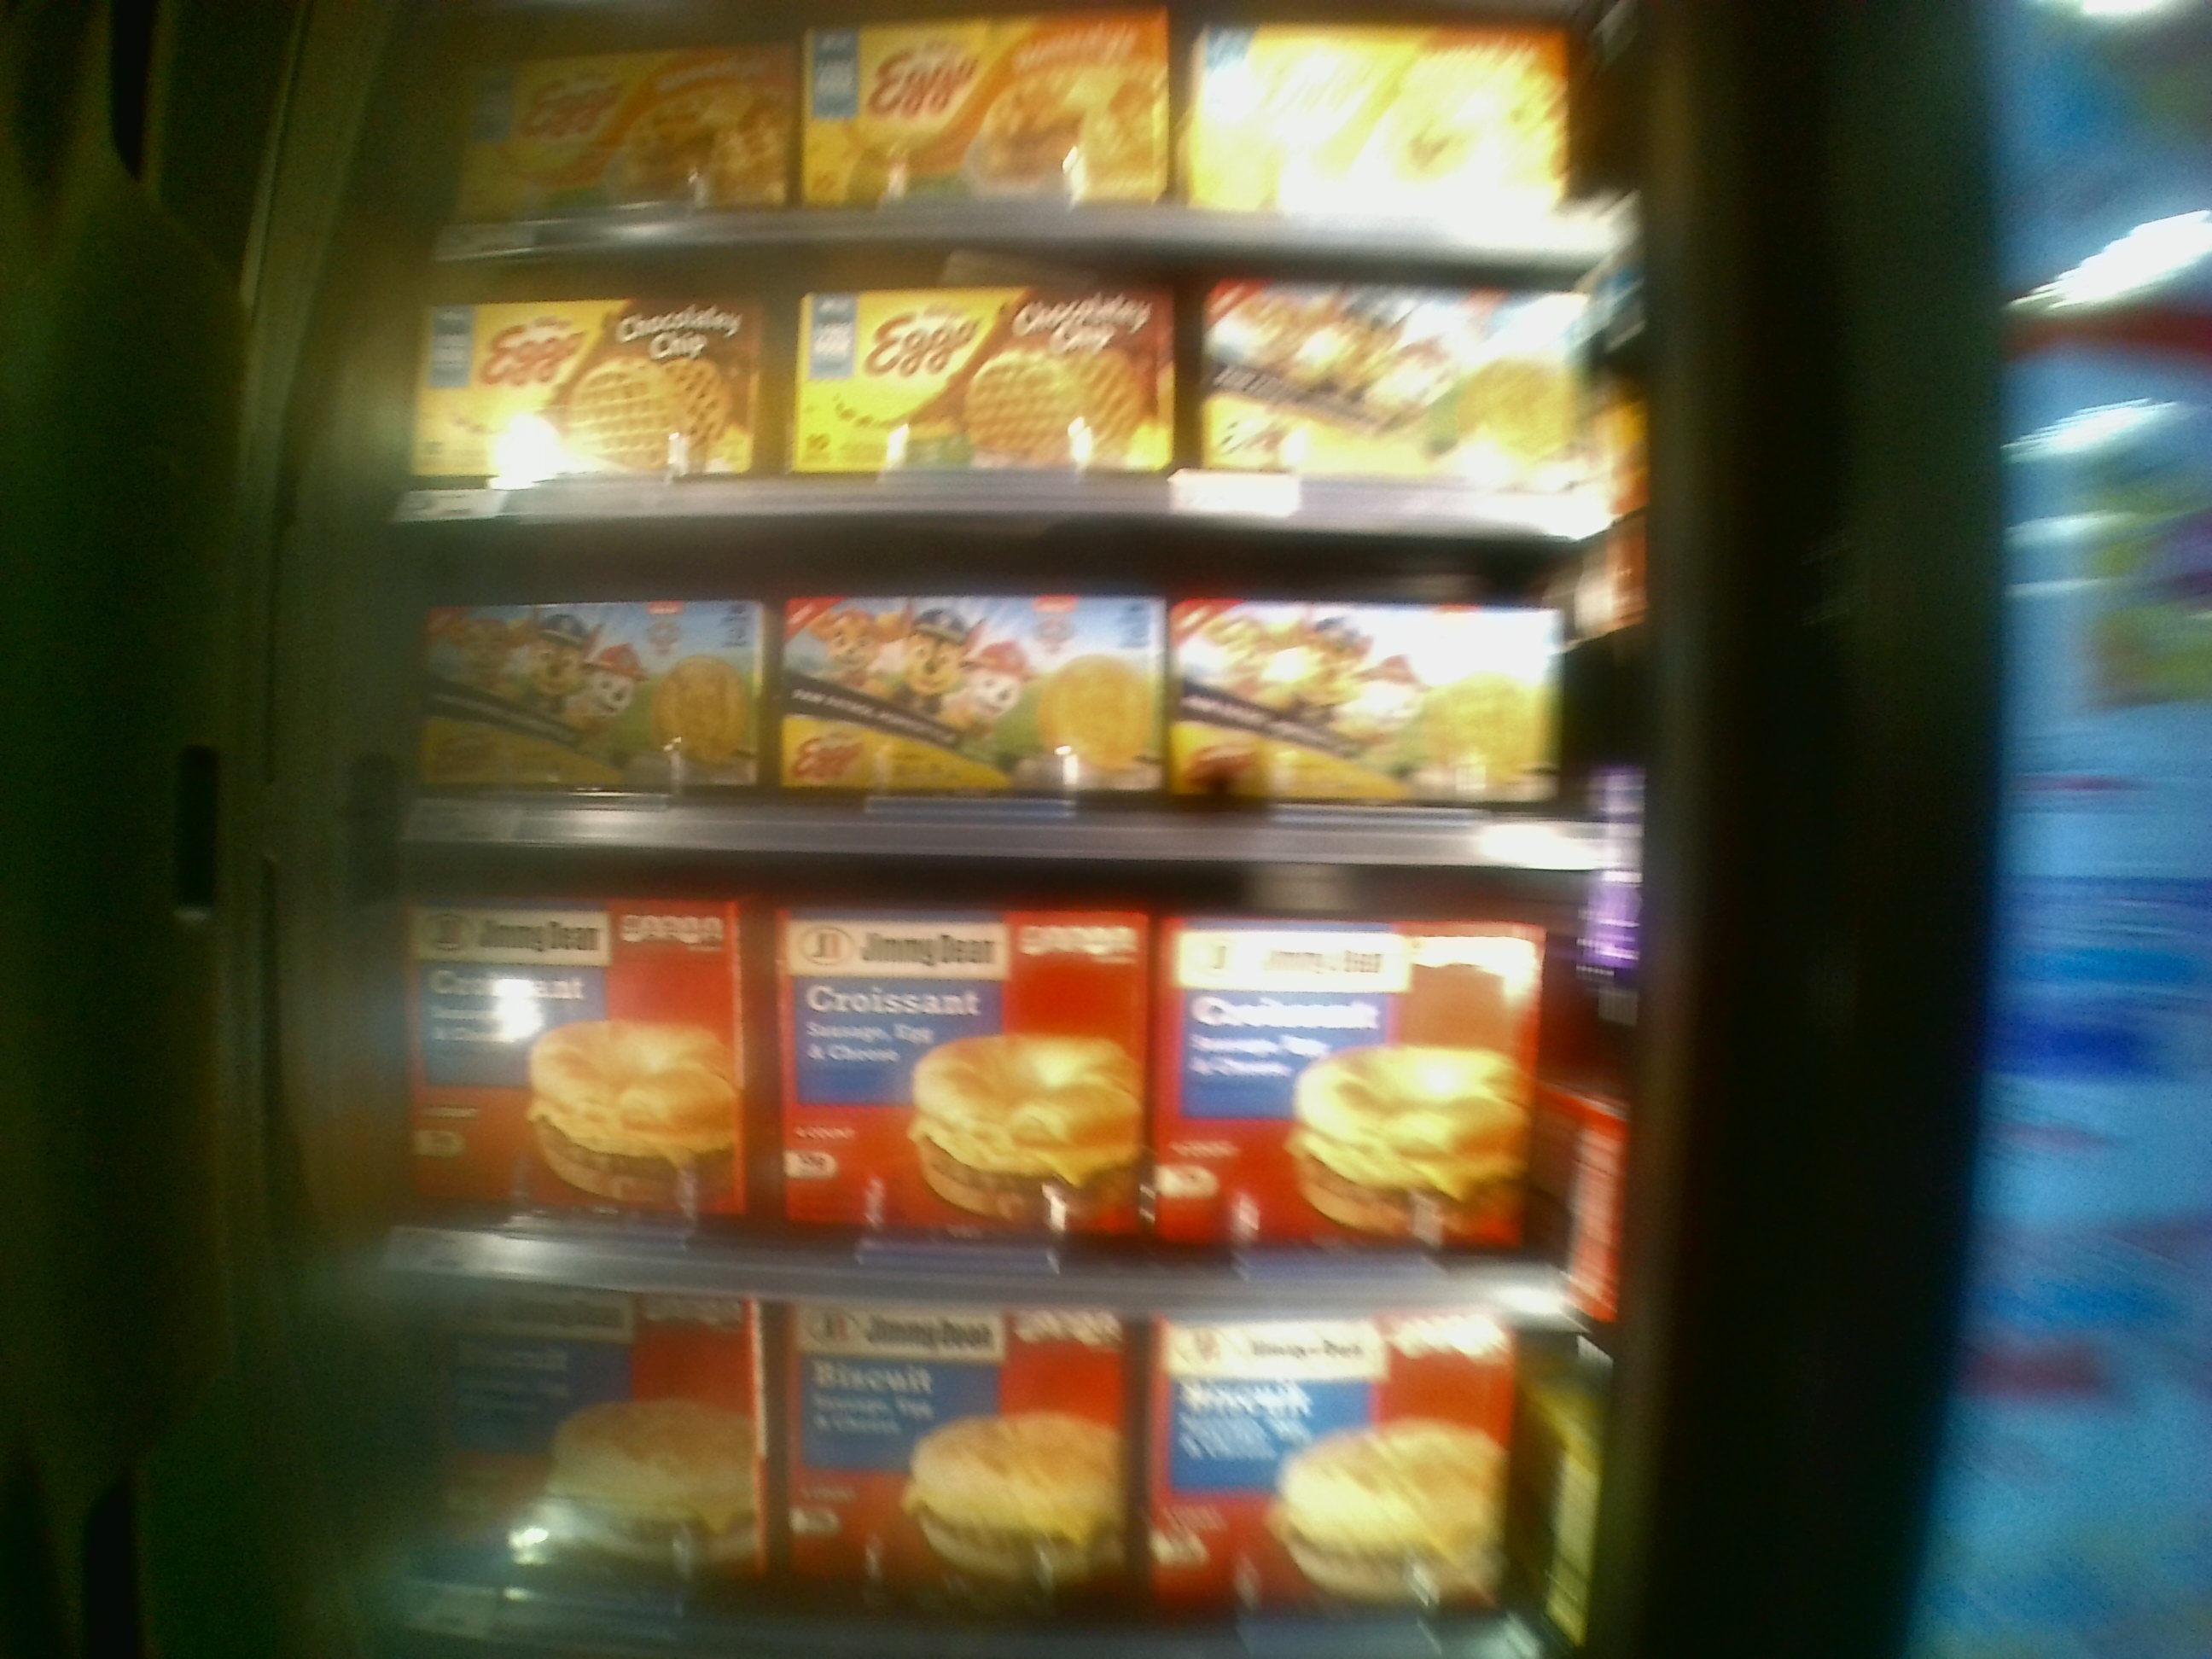shelf: (366, 843, 1623, 1300), (381, 512, 1629, 871), (387, 237, 1623, 521)
